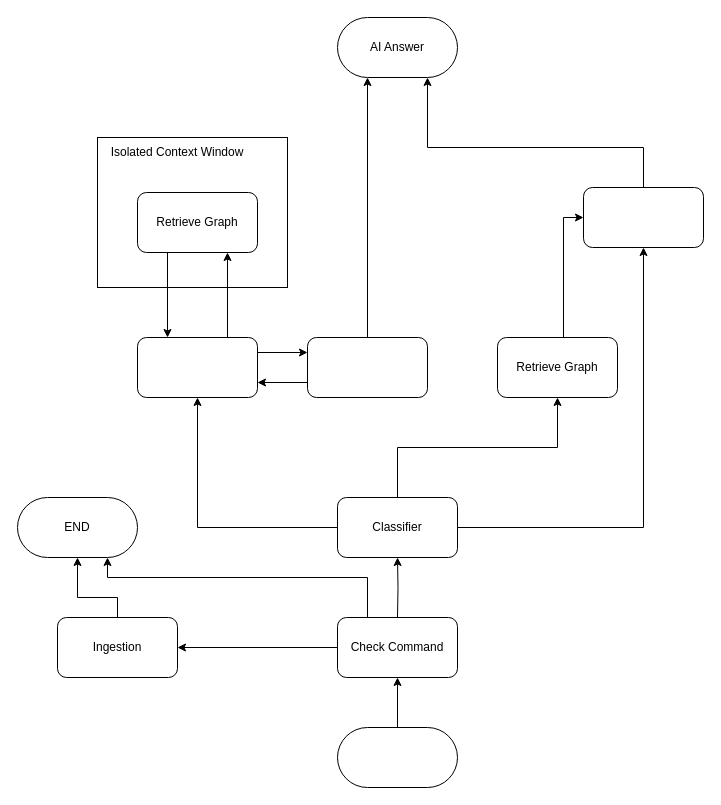
This 721x805 diagram has some shape labels left out. The centre of each missing label's shape, as x and y in pixels:
LLM: the point at 643,217
Orchestrator Agent: the point at 197,367
Reflect: the point at 367,367
User Query: the point at 397,757
